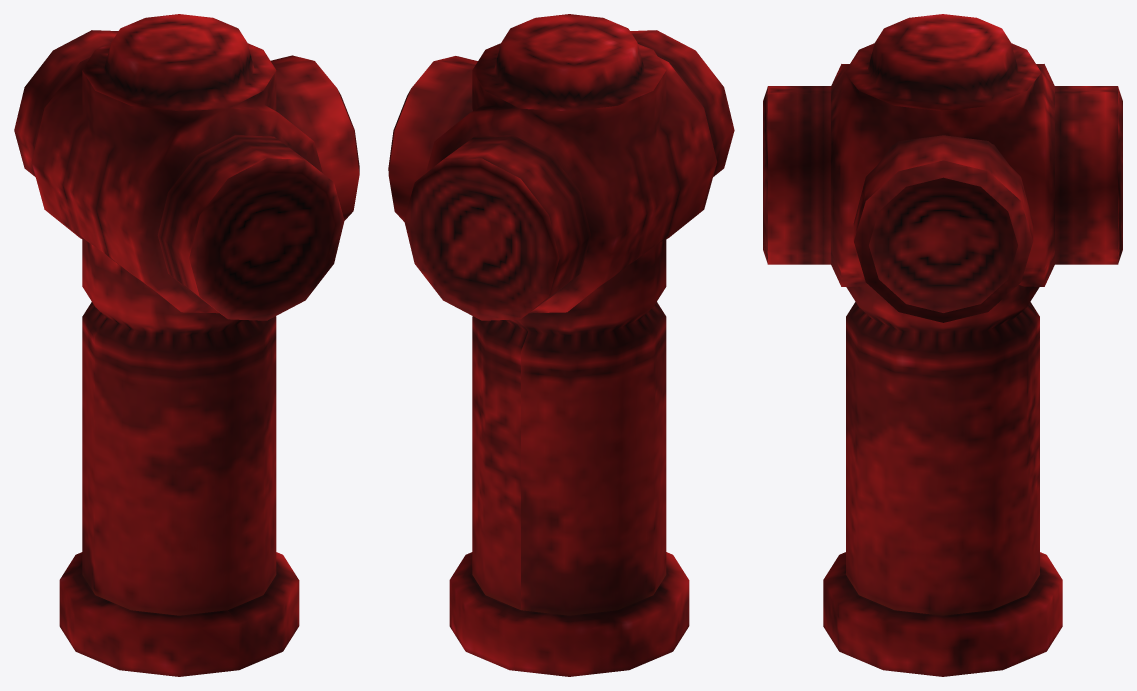
Rendered from Hydrant.FBX.
3 views of the same model, side by side, from view 1: azimuth 30°, elevation 25°; view 2: azimuth 150°, elevation 25°; view 3: azimuth 270°, elevation 25° (orthographic).
Visible parts, largest first — view 1: Hydrant; view 2: Hydrant; view 3: Hydrant.
Boxes of the visible parts, <box> form: Hydrant: <box>14,14,359,676</box>; Hydrant: <box>388,14,734,676</box>; Hydrant: <box>763,14,1122,676</box>.
Size of the model in its own units: 0.316 by 0.7129 by 0.3986.
